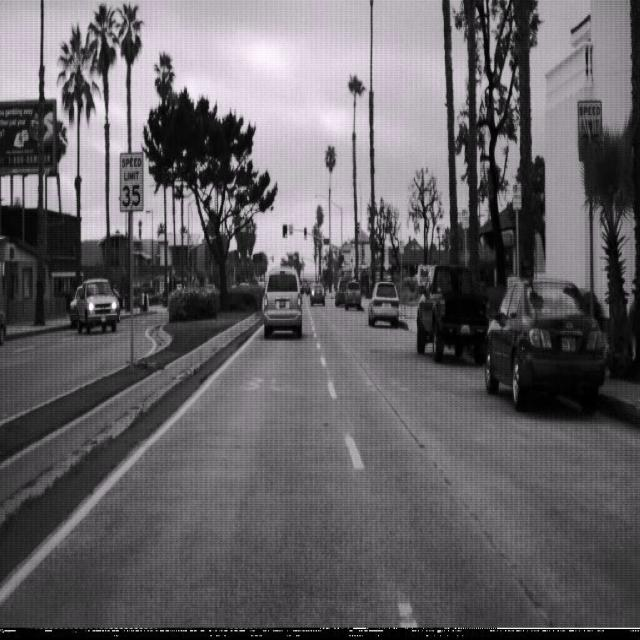speedLimit35: (118, 150, 144, 212)
